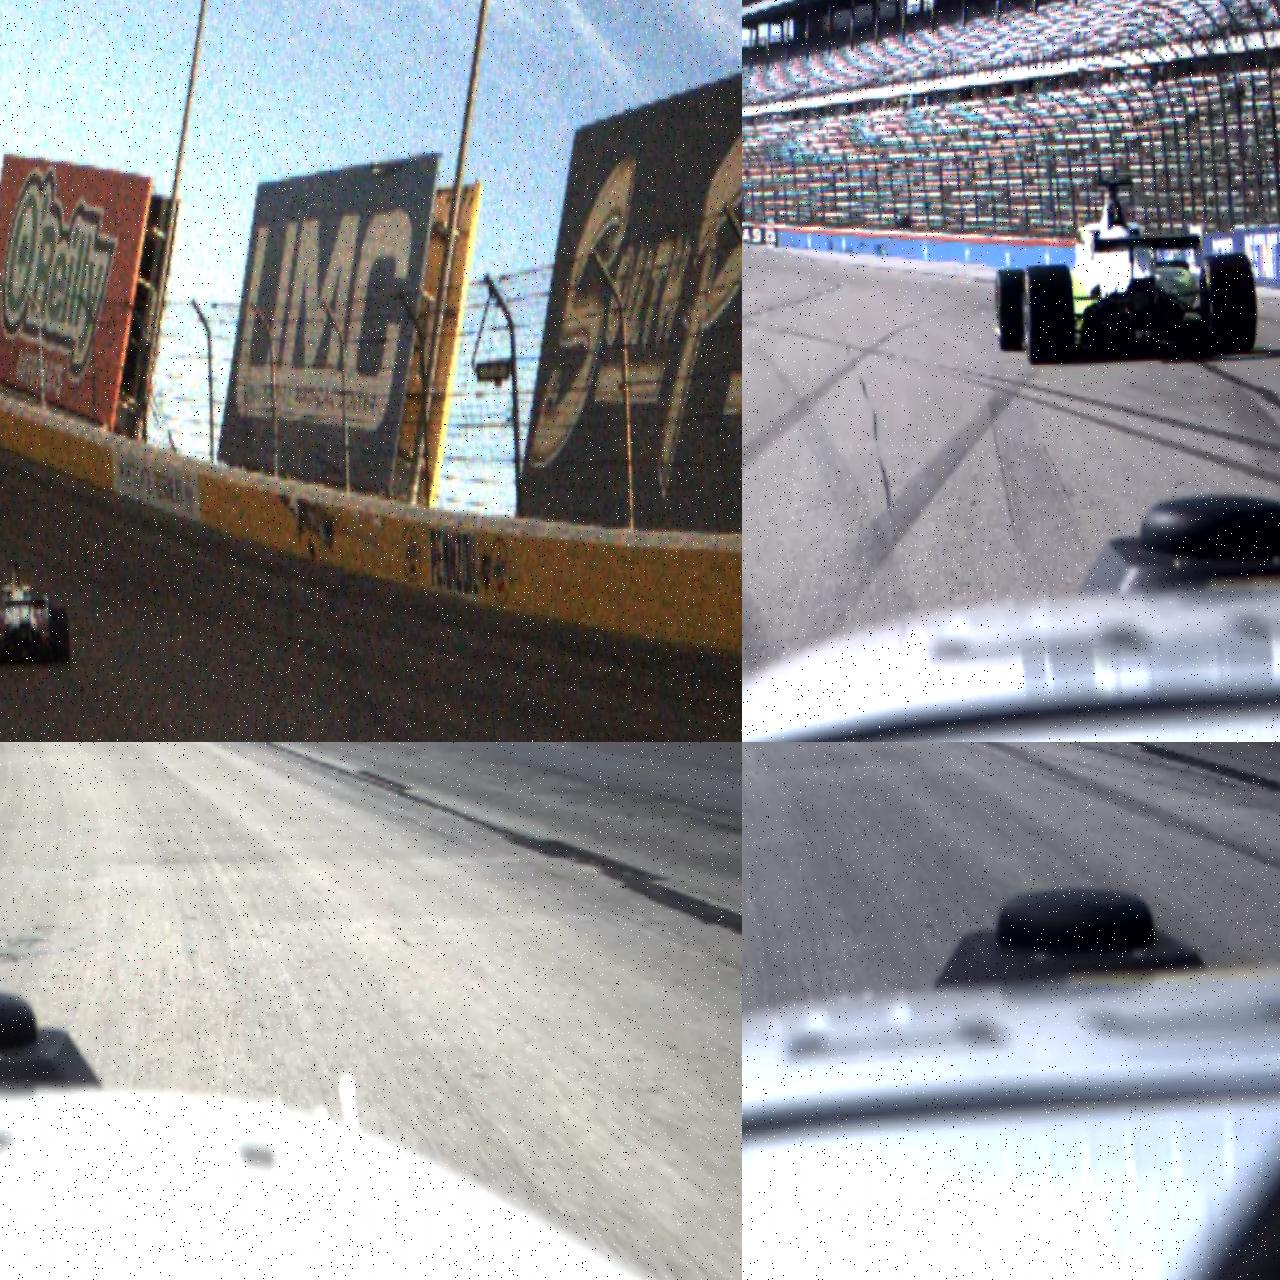AV: (990, 171, 1259, 368), (0, 559, 70, 670)
Wheel: (1202, 253, 1258, 354), (1023, 263, 1075, 366), (994, 268, 1032, 352), (51, 606, 71, 666)
